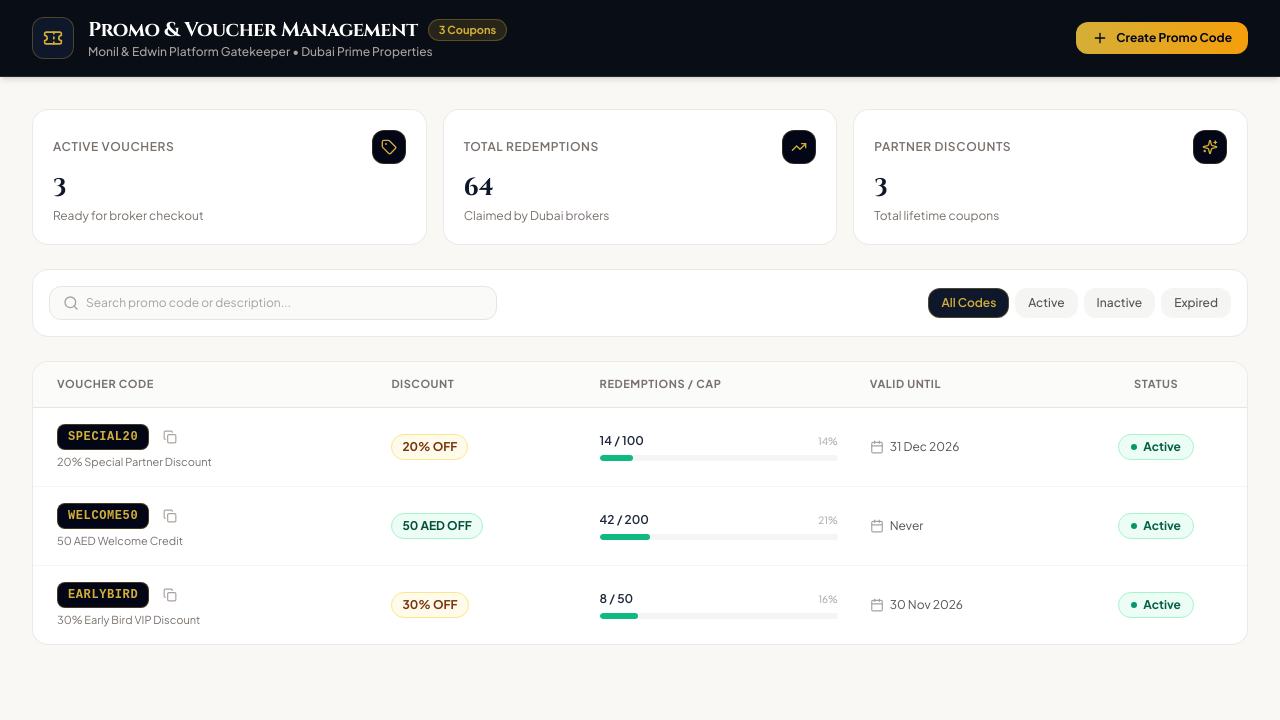
AdminPromos Component › closes create promo modal when clicking Cancel or X button
Click the button "Create Promo Code" at (1162, 38), box [1076,22,1248,54]
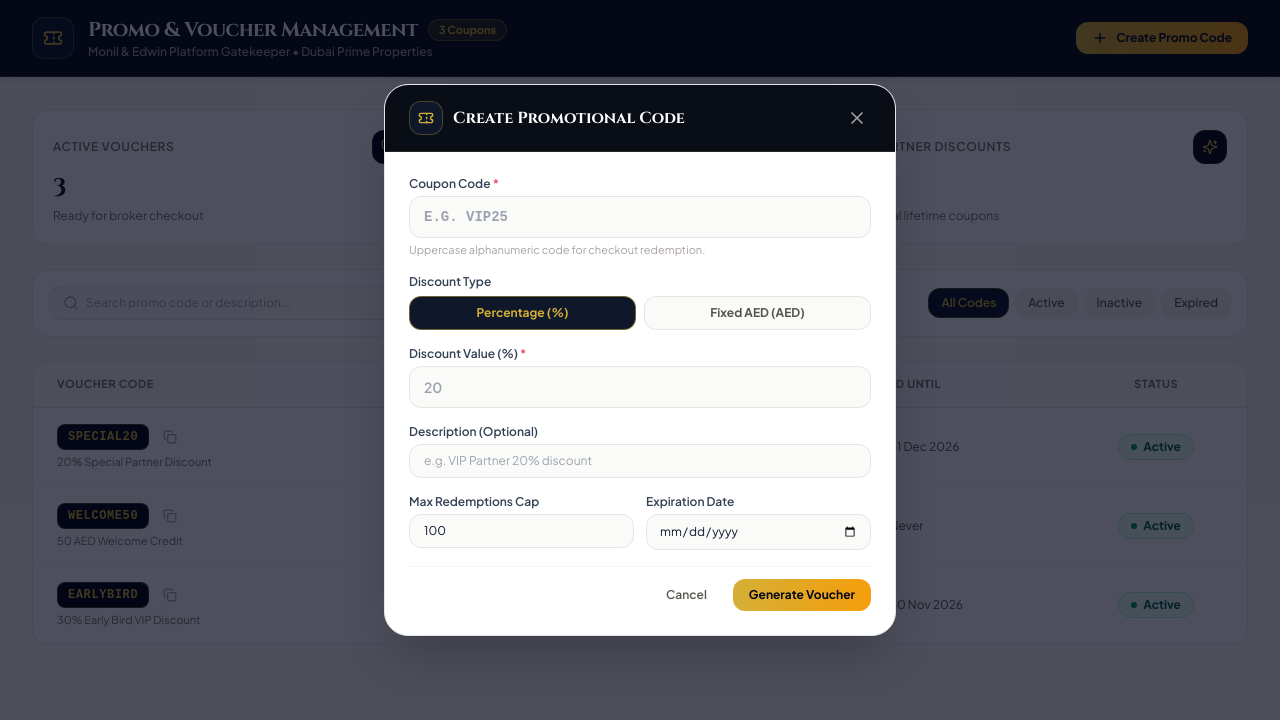
Now the dialog is shown
Click the button named "close modal" at (857, 118), box [843,104,871,132]
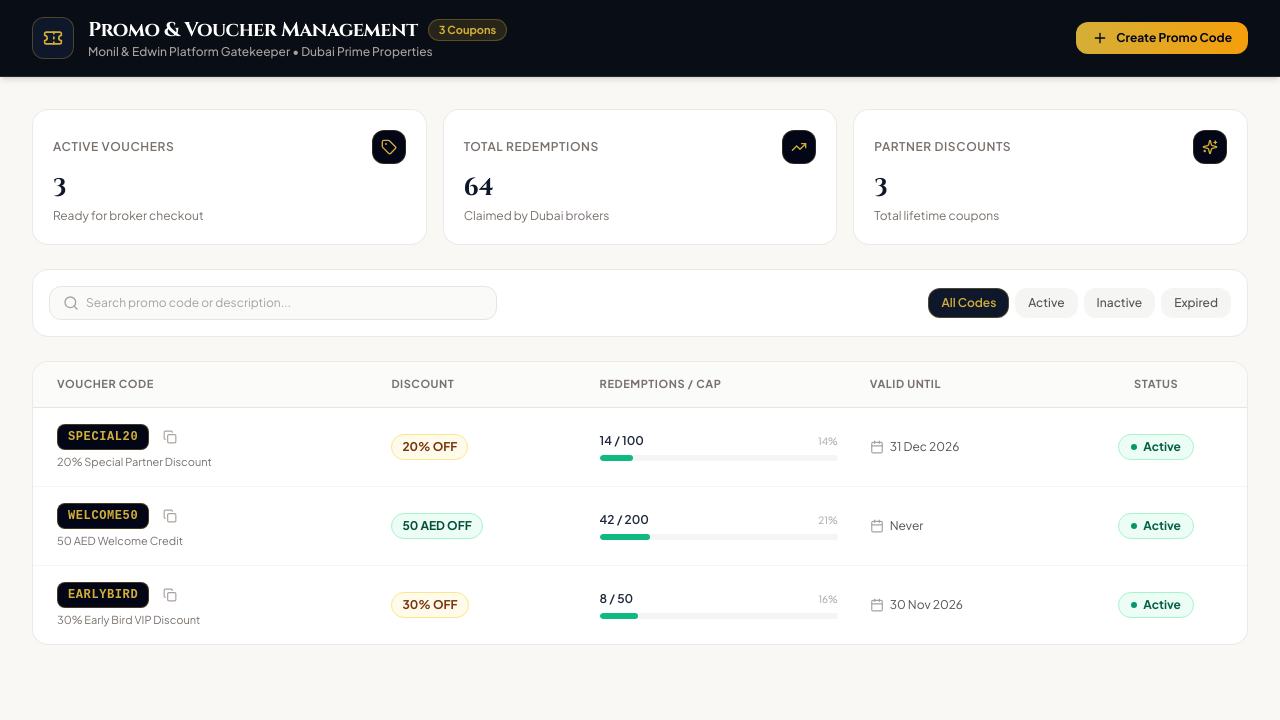
Now the dialog is gone
